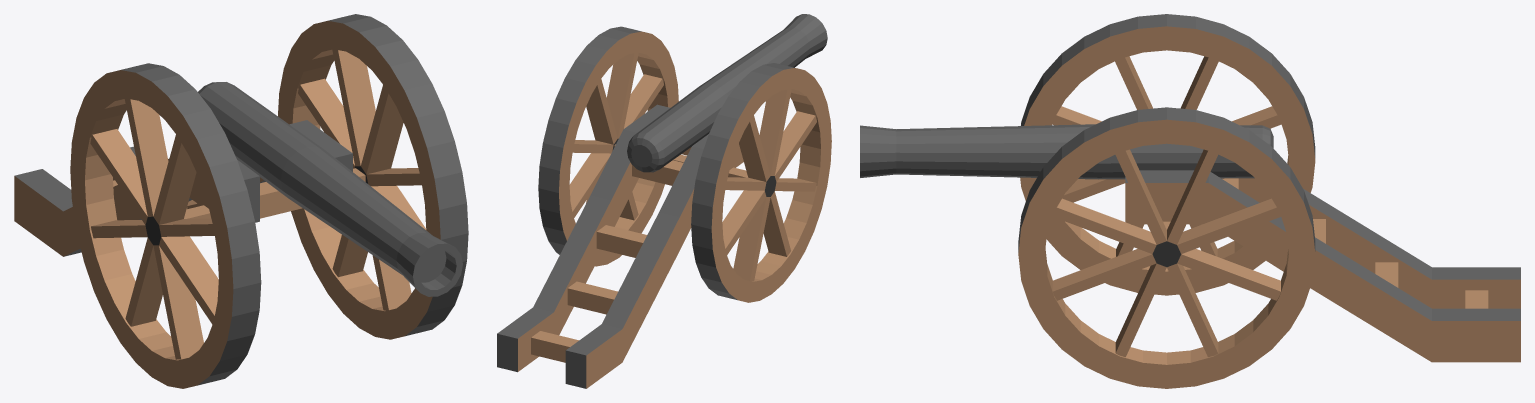
Rendered from Canon.dae.
3 renders of one model, left to right at view 1: azimuth 30°, elevation 25°; view 2: azimuth 150°, elevation 25°; view 3: azimuth 270°, elevation 25°, orthographic. The views are drawn at different scales.
Visible parts, largest first — view 1: Cube; view 2: Cube; view 3: Cube.
Part boxes in pixels (x1,y1,x2,y2): Cube: (14,14,468,388); Cube: (497,14,831,388); Cube: (860,14,1520,388).
Bounding box in the file's own units: 4.54 × 12.13 × 5.48.
Materials: 1 (1 with a texture image).
